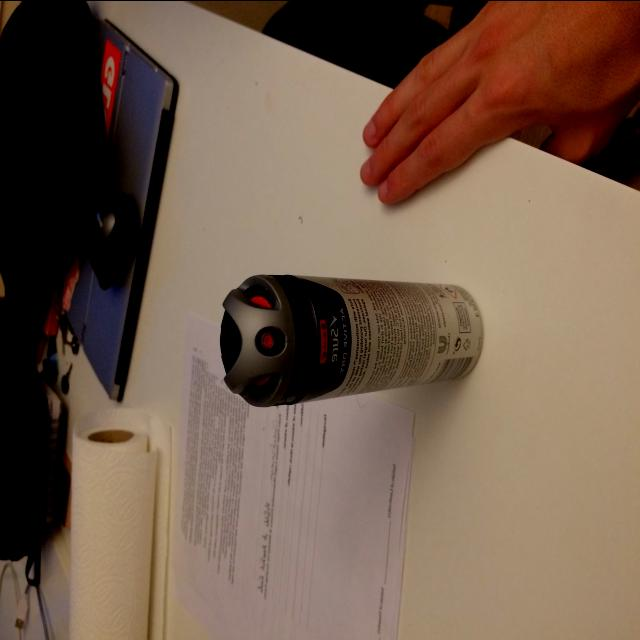Aerosol: (220, 273, 483, 406)
Normal paper: (172, 310, 415, 640)
Tissues: (69, 406, 171, 640)
Toilet tube: (88, 430, 133, 441)
